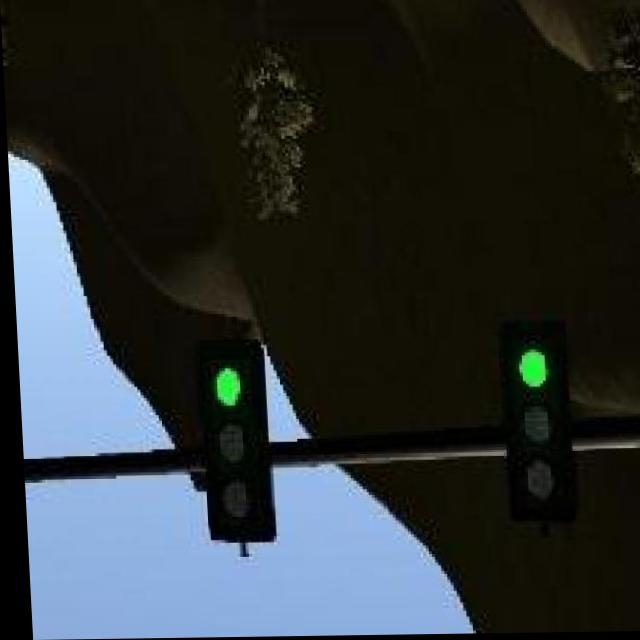green light: (200, 342, 265, 543), (500, 326, 564, 514)
